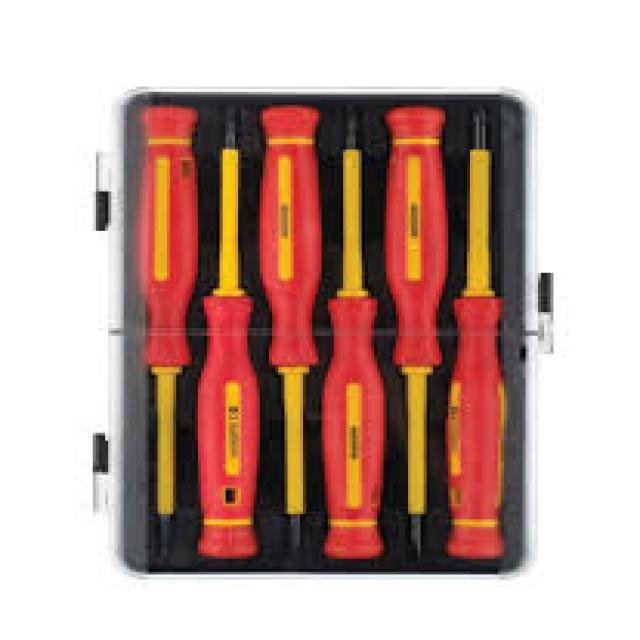screwdriver: (440, 102, 514, 564), (317, 98, 385, 563), (256, 104, 324, 560), (196, 101, 258, 563), (382, 103, 444, 562), (132, 108, 194, 562)
